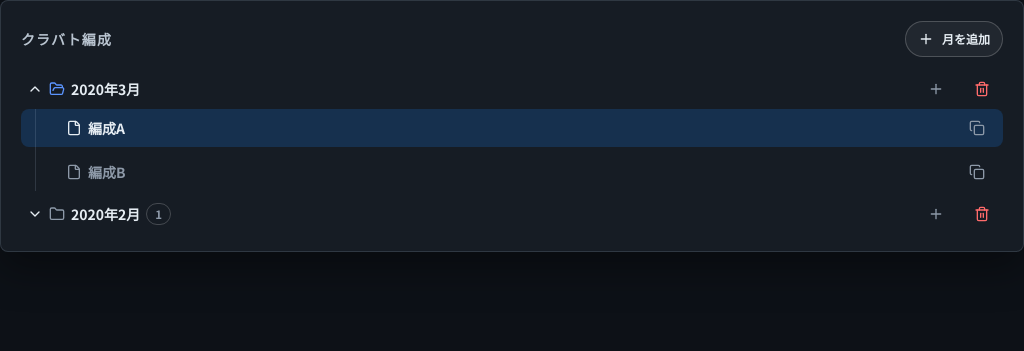
ClanBattleSidebar（インライン編成追加） › 畳んだ月の＋を押すと展開してインライン入力欄を表示し、Enterで編成を追加する
Click the button named "2020年2月に編成を追加" at (936, 214), box top-left (915, 199), bottom-right (957, 229)
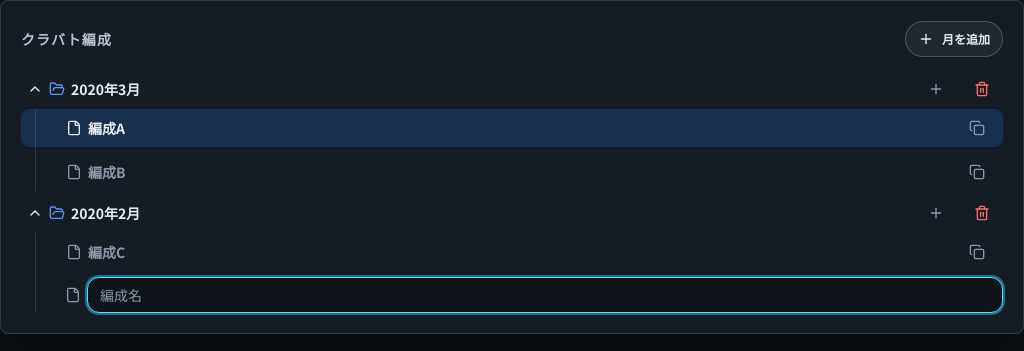
Check: the button "2020年2月" is shown, box top-left (21, 197), bottom-right (911, 229)
Type "新編成" into the field labelled "編成名" at (545, 295), box top-left (87, 277), bottom-right (1003, 313)
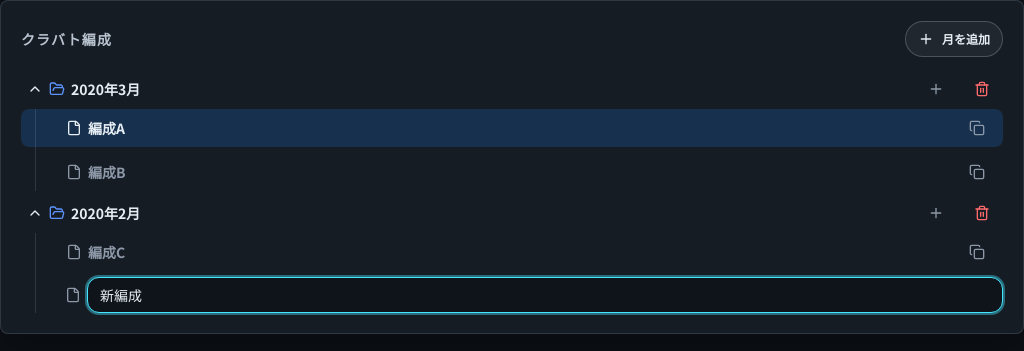
Press Enter in the field named "編成名", box top-left (87, 277), bottom-right (1003, 313)
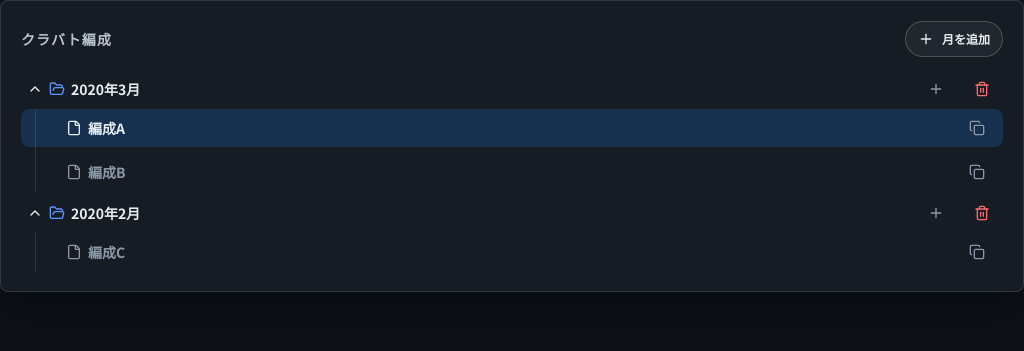
Check: the field labelled "編成名" is gone
